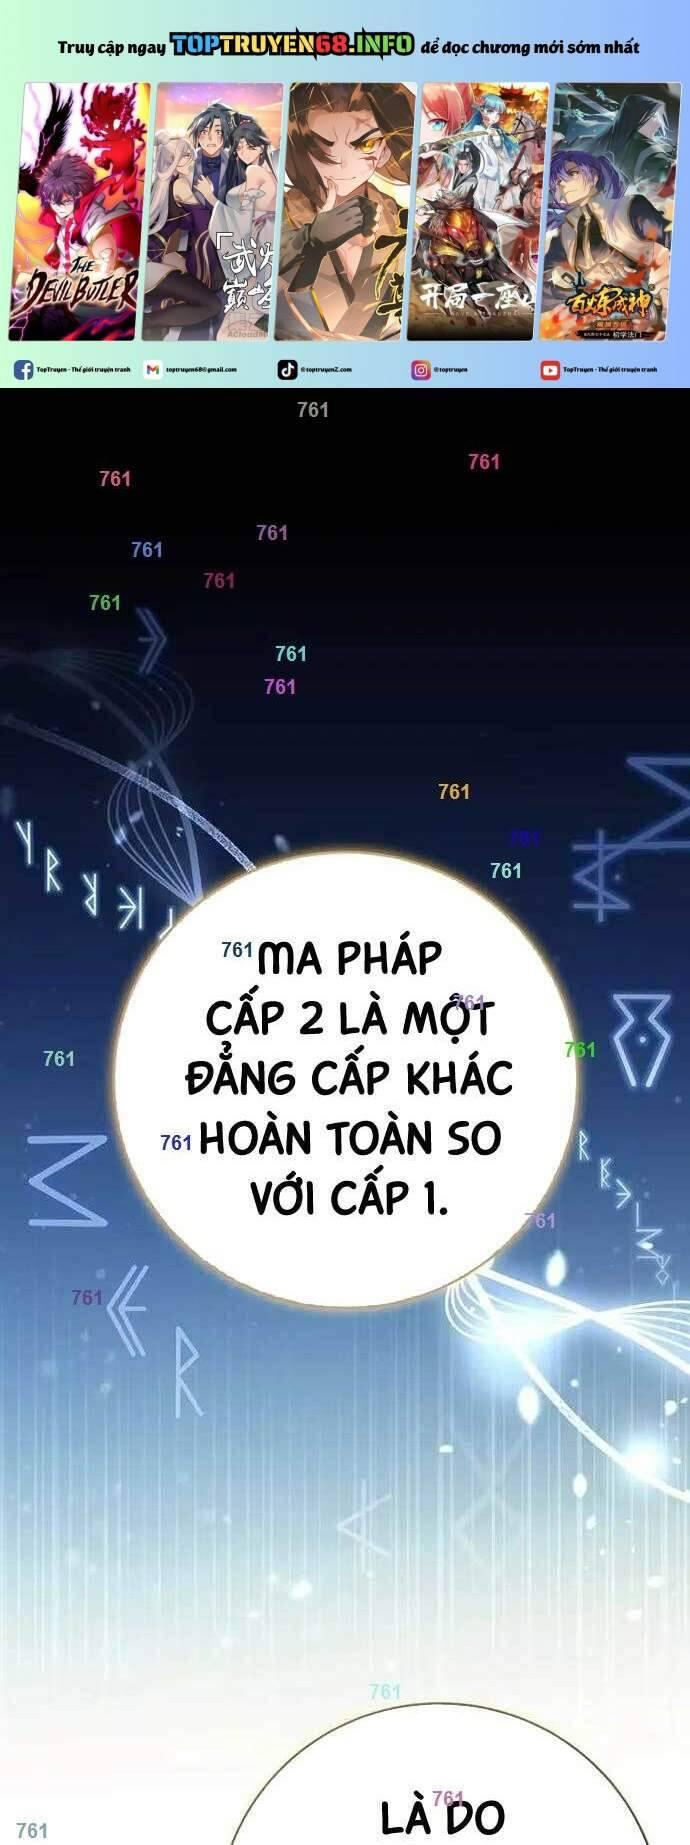quangcao: (2, 0, 690, 395)
